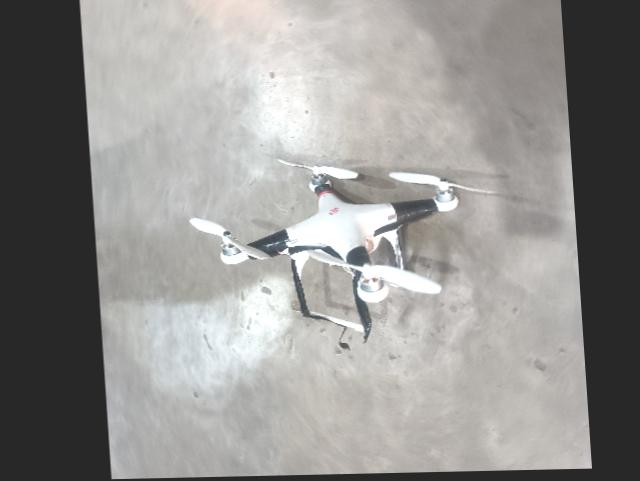drone: (176, 126, 471, 362)
